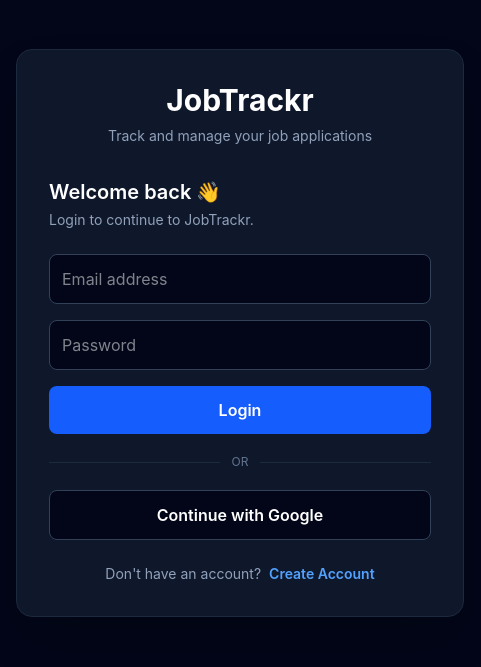
Test: JobTrackr App › shows validation when login is submitted empty
The width and height of the screenshot is (481, 667).
Step 1. Click the button "Login" → (240, 410), box left=49, top=386, right=431, bottom=434
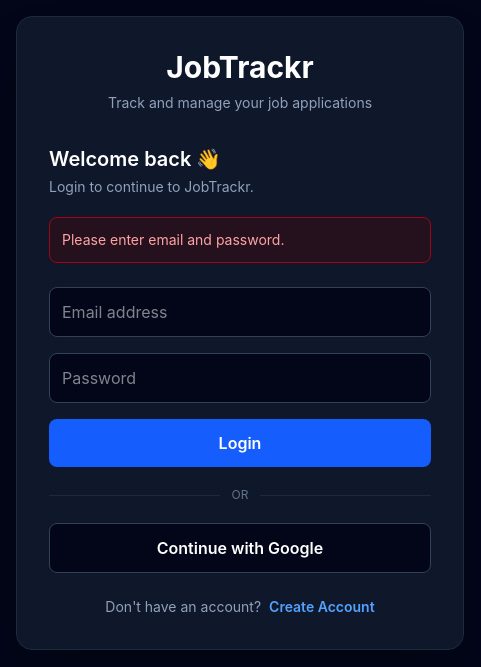
Expected: the text "Please enter email and password." is shown, left=49, top=217, right=431, bottom=263
